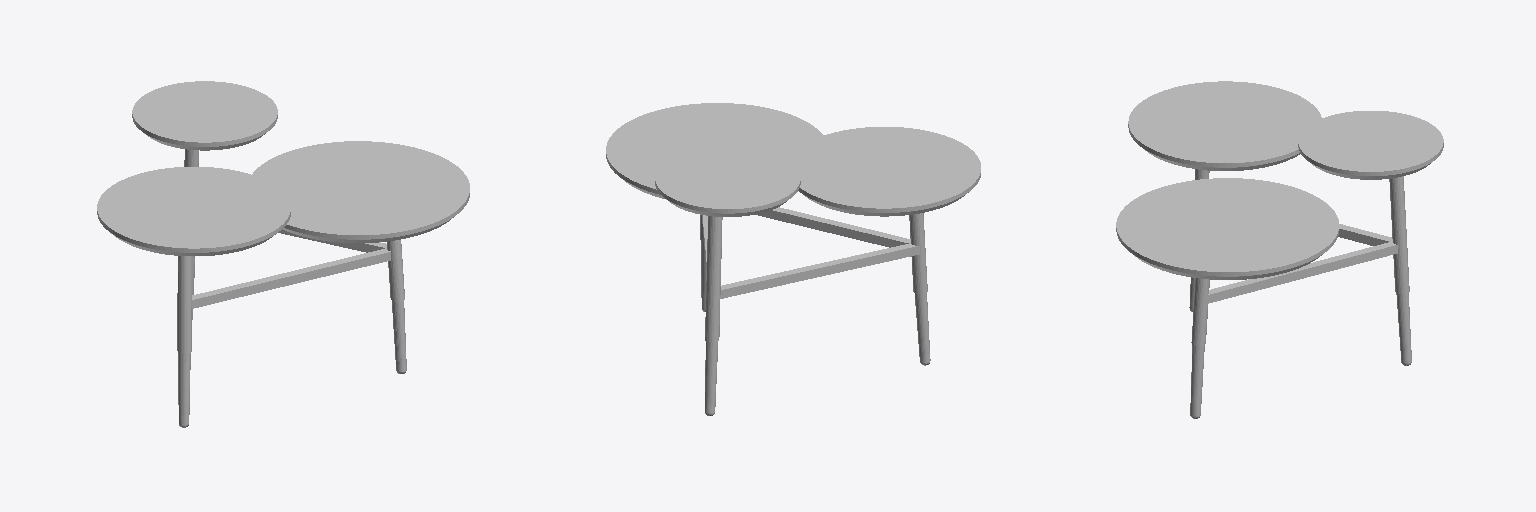
Rendered from table.obj.
The picture shows the model from 3 angles: view 1: azimuth 30°, elevation 25°; view 2: azimuth 150°, elevation 25°; view 3: azimuth 270°, elevation 25°; orthographic projection.
Parts seen in each view (by area): view 1: 3dSolid; view 2: 3dSolid; view 3: 3dSolid.
Boxes of the visible parts, box(x1,y1,x2,y2) form: 3dSolid: box(97, 81, 469, 427); 3dSolid: box(606, 103, 980, 415); 3dSolid: box(1116, 81, 1443, 418).
Bounding box in the file's own units: 32.45 × 20.08 × 26.57.